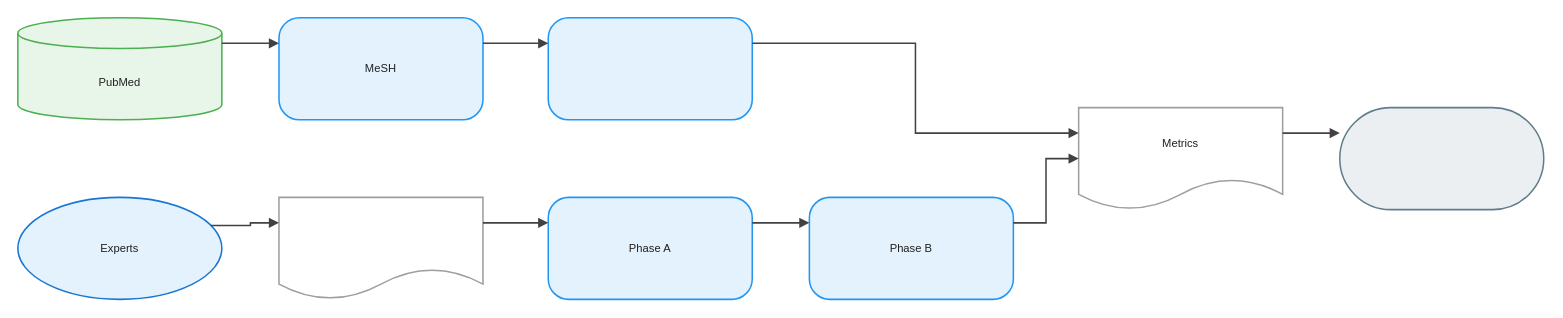
This 1563x318 diagram has some shape labels left out. The shapes that lost their labels are listed below. From the top down, each one's centre as x and y in pixels, then its label:
[650,68]: Task 1a
[1441,158]: Results
[380,248]: QA gold
